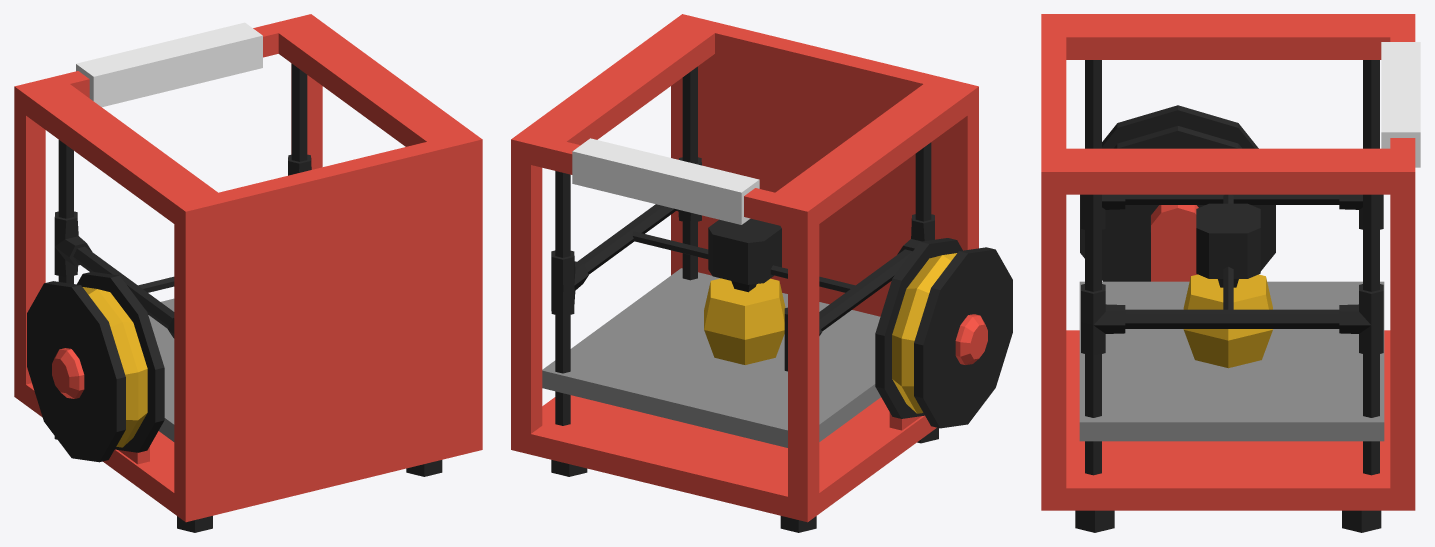
File: mesh_tech_printer3d_01.fbx
3 renders of one model, left to right at view 1: azimuth 30°, elevation 25°; view 2: azimuth 150°, elevation 25°; view 3: azimuth 270°, elevation 25°, orthographic. The views are drawn at different scales.
Parts seen in each view (by area): view 1: mesh_tech_printer3d_01, mesh_tech_printer3d_02, mesh_tech_printer3d_003; view 2: mesh_tech_printer3d_01, mesh_tech_printer3d_003, mesh_tech_printer3d_02; view 3: mesh_tech_printer3d_01, mesh_tech_printer3d_003, mesh_tech_printer3d_02.
Boxes of the visible parts, x1,y1,x2,y2 form: mesh_tech_printer3d_01: [14, 14, 482, 532]; mesh_tech_printer3d_02: [27, 271, 164, 464]; mesh_tech_printer3d_003: [54, 63, 311, 338]; mesh_tech_printer3d_01: [511, 14, 978, 532]; mesh_tech_printer3d_003: [551, 66, 934, 425]; mesh_tech_printer3d_02: [875, 238, 1012, 430]; mesh_tech_printer3d_01: [1041, 14, 1420, 532]; mesh_tech_printer3d_003: [1081, 60, 1383, 475]; mesh_tech_printer3d_02: [1080, 105, 1275, 281].
Size of the model in its own units: 7.84 by 7.17 by 6.57.
